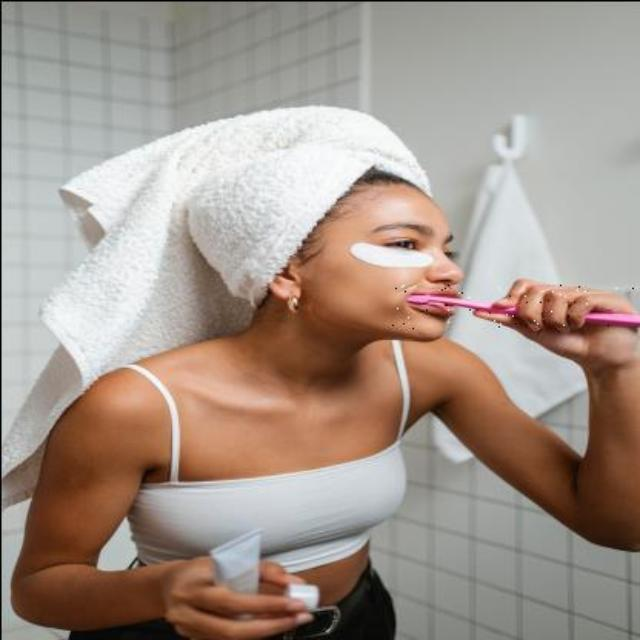toothbrush: (390, 284, 640, 330)
